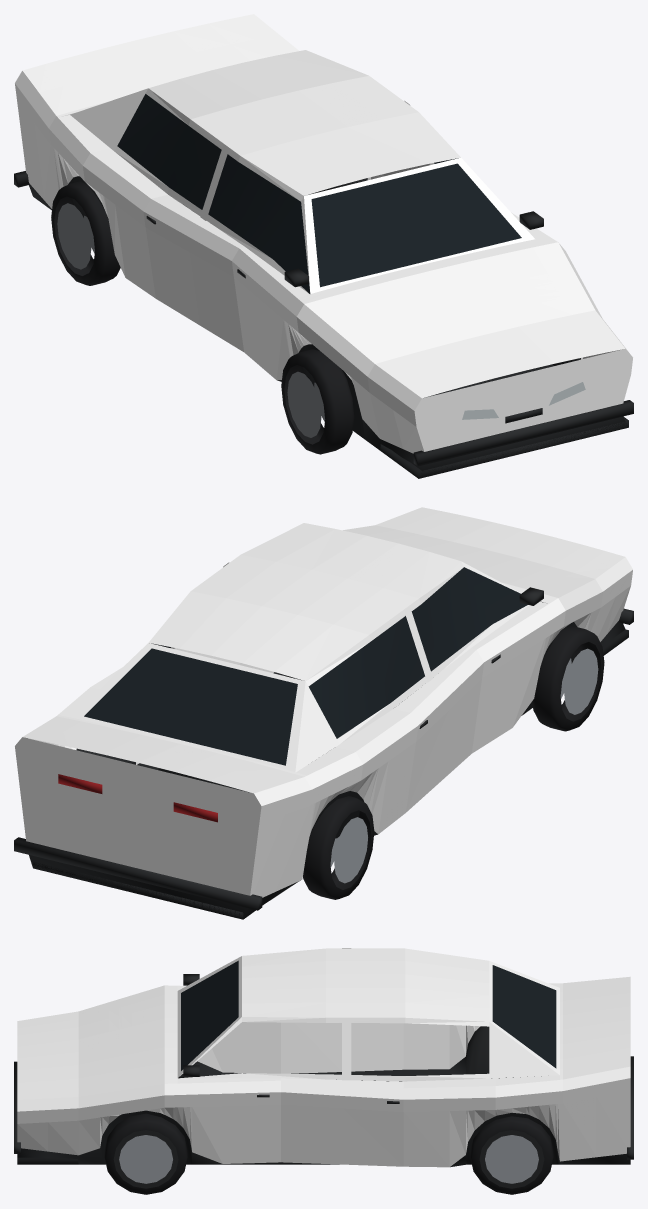
The model's file is rauhe_asfalto.glb.
3 renders of one model, top to bottom at view 1: azimuth 30°, elevation 25°; view 2: azimuth 150°, elevation 25°; view 3: azimuth 270°, elevation 25°, orthographic. The views are drawn at different scales.
Parts seen in each view (by area): view 1: Body_Paint, Body_Details, Mount_FrontLeft_Wheel_Details, Mount_RearLeft_Wheel_Details; view 2: Body_Paint, Body_Details, Mount_FrontLeft_Wheel_Details, Mount_RearLeft_Wheel_Details; view 3: Body_Paint, Body_Details, Mount_FrontRight_Wheel_Details, Mount_RearRight_Wheel_Details.
Boxes of the visible parts, bbox=[...] form: Body_Paint: bbox=[15, 14, 632, 453]; Body_Details: bbox=[14, 94, 633, 478]; Mount_FrontLeft_Wheel_Details: bbox=[281, 349, 354, 454]; Mount_RearLeft_Wheel_Details: bbox=[51, 181, 120, 285]; Body_Paint: bbox=[15, 507, 632, 897]; Body_Details: bbox=[14, 567, 633, 919]; Mount_FrontLeft_Wheel_Details: bbox=[532, 625, 604, 731]; Mount_RearLeft_Wheel_Details: bbox=[303, 796, 374, 899]; Body_Paint: bbox=[17, 948, 630, 1167]; Body_Details: bbox=[14, 960, 633, 1167]; Mount_FrontRight_Wheel_Details: bbox=[104, 1113, 187, 1194]; Mount_RearRight_Wheel_Details: bbox=[470, 1116, 553, 1194].
Size of the model in its own units: 2.04 by 1.42 by 4.91.
Materials: 2 (1 with a texture image).
